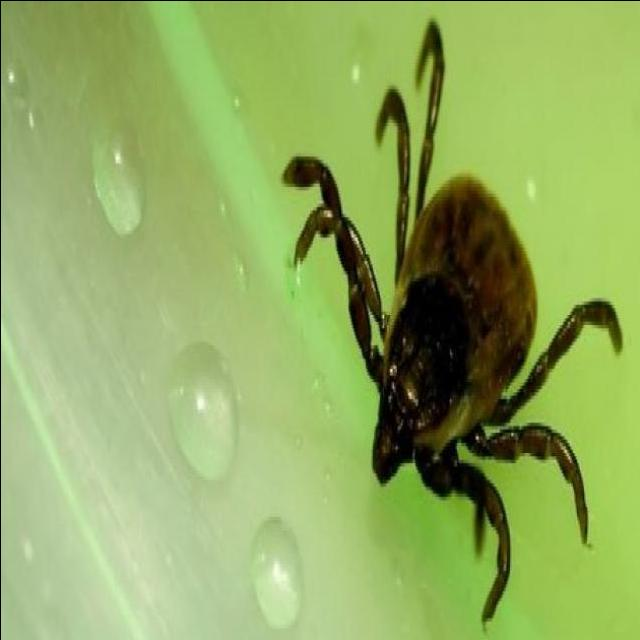Rhipicephalus Sanguineus-F: (279, 17, 623, 624)
